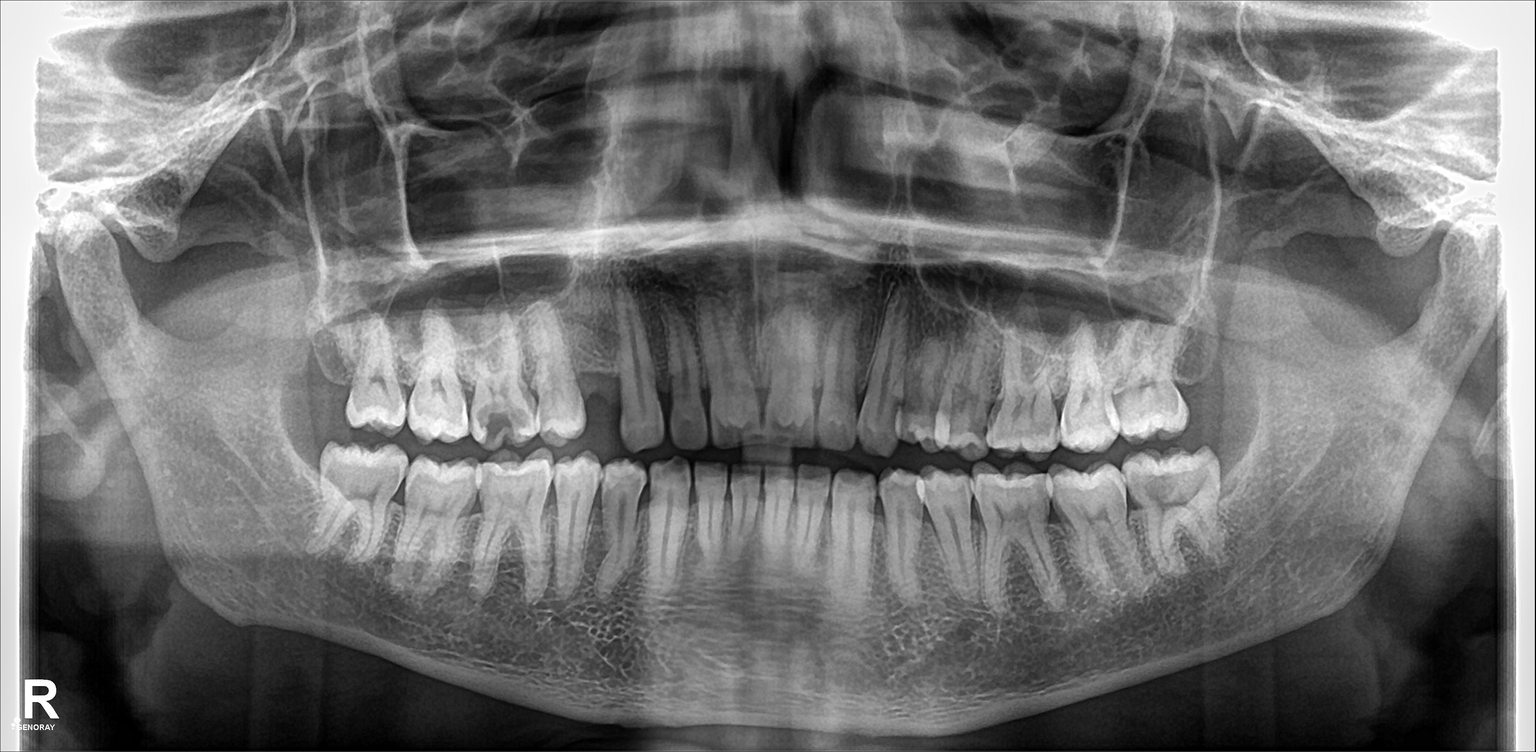Dental Caries: (479, 406, 517, 442)
Missing Tooth: (285, 320, 346, 423), (1166, 331, 1217, 428), (581, 329, 623, 428)
